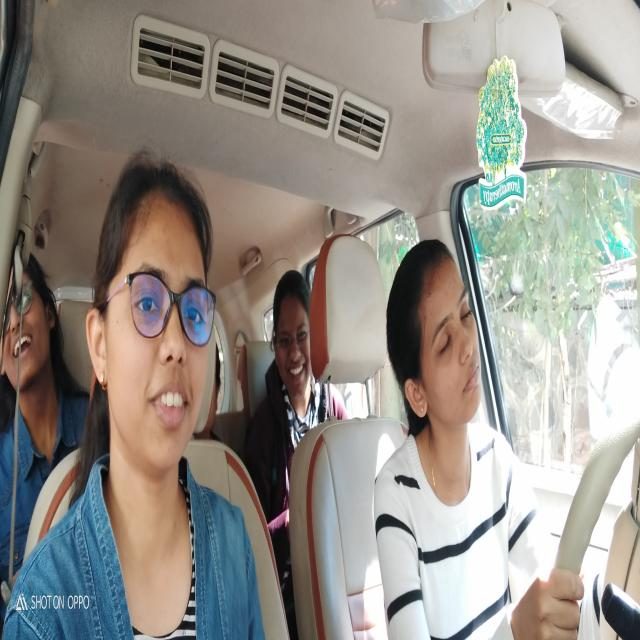drowsy: (381, 225, 508, 469)
person: (88, 87, 237, 503), (4, 243, 62, 427), (262, 252, 322, 418)
